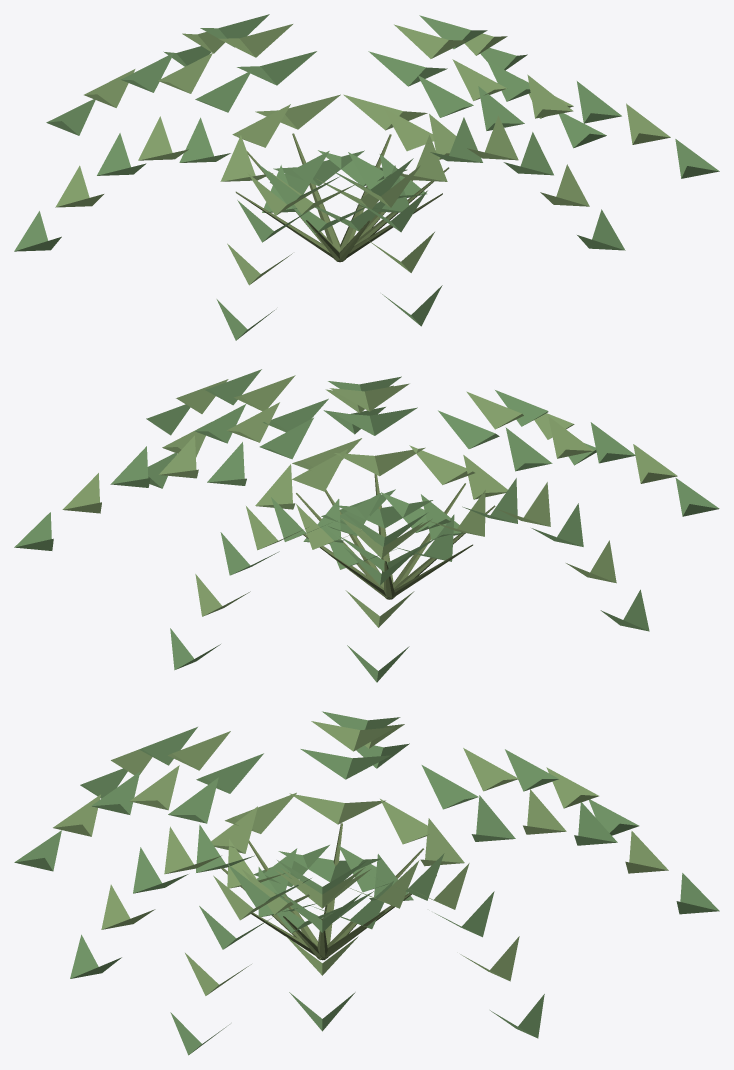
File: fern_cluster_a.gltf
3 views of the same model, one above another, from view 1: azimuth 30°, elevation 25°; view 2: azimuth 150°, elevation 25°; view 3: azimuth 270°, elevation 25° (orthographic). The views are drawn at different scales.
Parts seen in each view (by area): view 1: Fern Cluster; view 2: Fern Cluster; view 3: Fern Cluster.
Part boxes in pixels (x1,y1,x2,y2): Fern Cluster: (14, 14, 719, 340); Fern Cluster: (14, 369, 719, 682); Fern Cluster: (14, 711, 719, 1055).
Size of the model in its own units: 2.87 by 0.6897 by 2.78.
